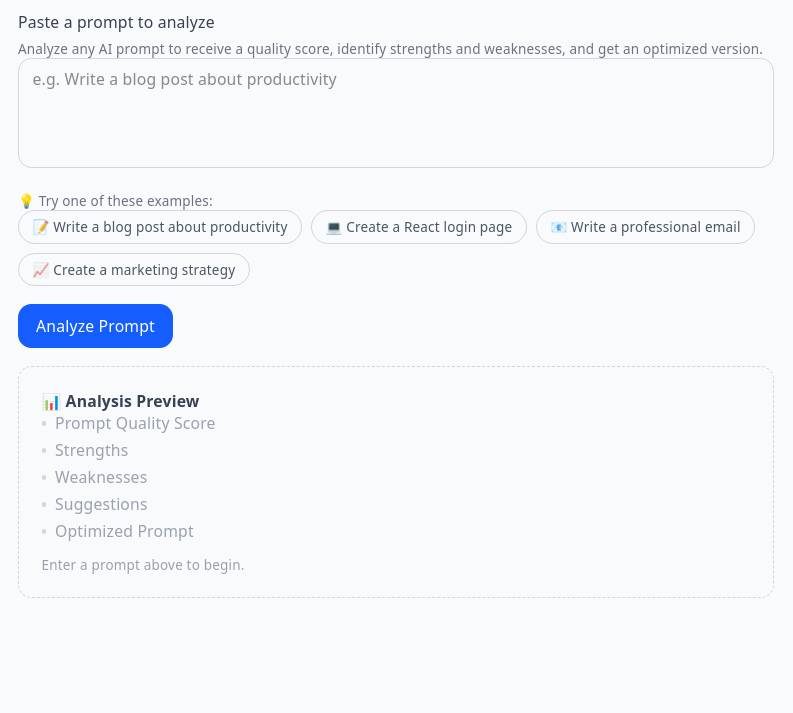
Test case: PromptAnalyzerPanel › shows an error state with a working Retry button on failure
Type "Test prompt" into the text box with placeholder "e.g. Write a blog post about productivity". click: (396, 113)
box: [18,58,774,168]
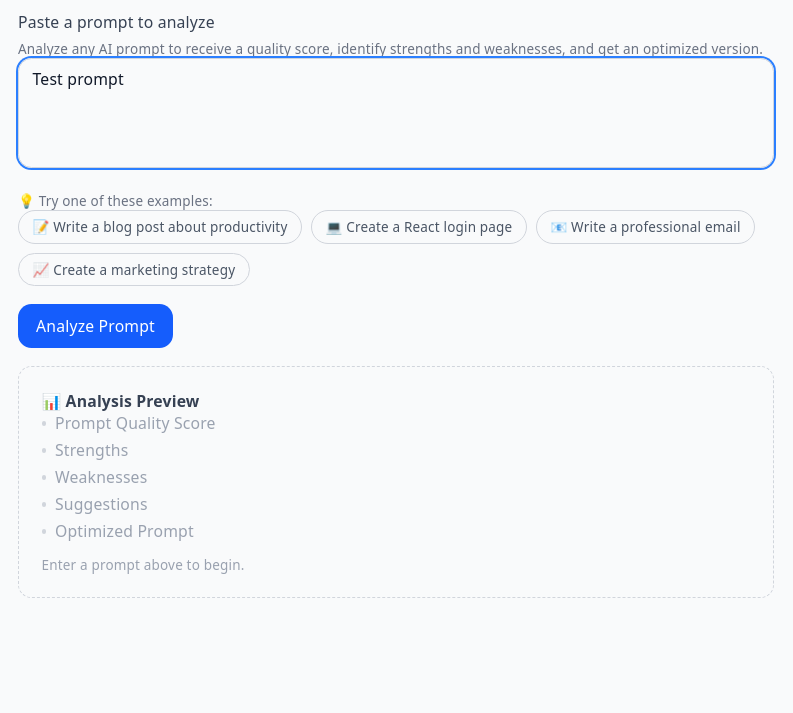
Click the button "Analyze Prompt". click: click(96, 326)
box: [18,304,173,348]
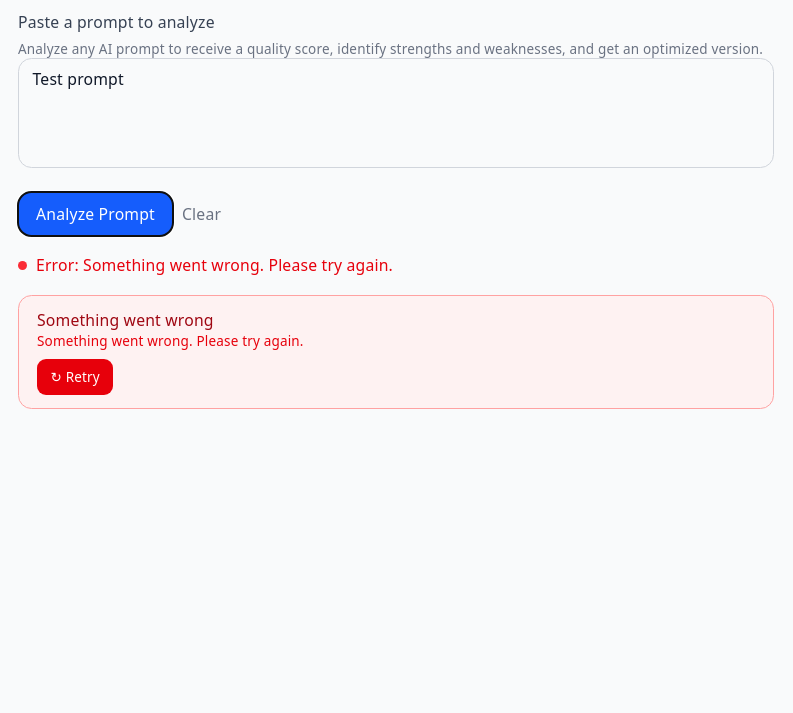
Now the text "Something went wrong" is shown, box [37,309,214,331]
Click the button "↻ Retry". click: click(75, 377)
box: [37,359,113,395]
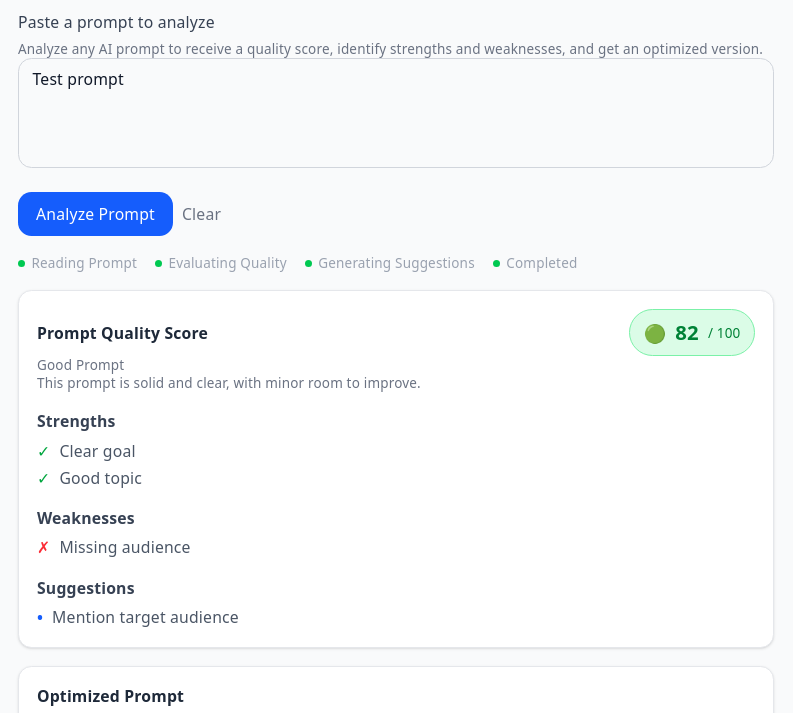
Now the text "82" is shown, box [675,317,699,349]
